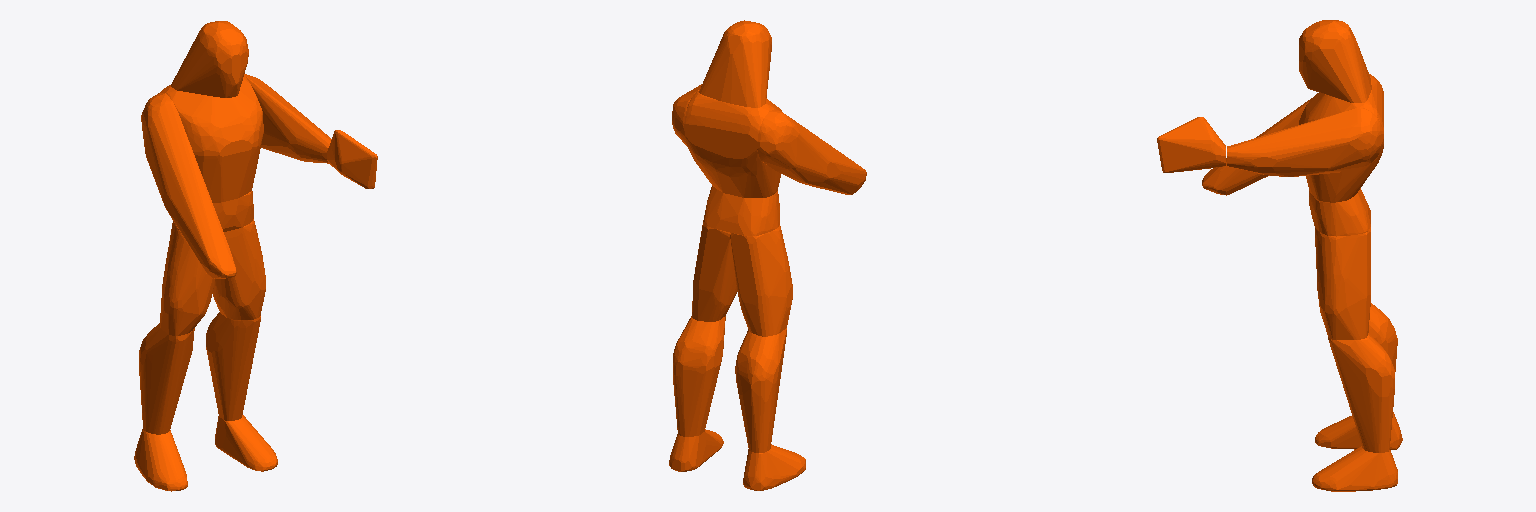
The robot description file, URDF, robot "Spidermanfigure":
<?xml version="1.0" ?>
<robot name="Spidermanfigure">
   <material name="obj_color">
      <color rgba="1.0 0.423529411765 0.0392156862745 1.0"/>
   </material>
   <link name="top">
      <inertial>
         <origin rpy="0.000163856593778482 0.001043379577701048 0.001063725046552779" xyz="-0.0006490033952777135 0.02436028342442219 0.01462514076569086"/>
         <mass value="0.3458592813953777"/>
         <inertia ixx="0.001044266310135867" ixy="7.737598515259345e-06" ixz="-2.052621338620703e-05" iyy="0.00104876519937387" iyz="0.0001094964801741957" izz="0.0001779297085225713"/>
      </inertial>
      <visual>
         <origin rpy="0 0 0" xyz="0 0 0"/>
         <geometry>
            <mesh filename="top_watertight_tiny.obj" scale="1 1 1"/>
         </geometry>
         <material name="obj_color"/>
      </visual>
      <collision>
         <origin rpy="0 0 0" xyz="0 0 0"/>
         <geometry>
            <mesh filename="top_watertight_tiny.obj" scale="1 1 1"/>
         </geometry>
      </collision>
   </link>
</robot>

--- What the picture shows (computed from the rendered views, not written in the file) ---
3 views of the same robot in one strip: view 1: azimuth 30°, elevation 25°; view 2: azimuth 150°, elevation 25°; view 3: azimuth 270°, elevation 25° (orthographic).
Robot: Spidermanfigure — 1 links, 0 joints (none); root link top; default pose: all joints at 0.
Links seen in each view (by area): view 1: top; view 2: top; view 3: top.
Link boxes in pixels (x1,y1,x2,y2): top: (134,21,377,491); top: (669,20,866,490); top: (1157,20,1402,491).
Size in the robot's own frame: 0.0684 by 0.1049 by 0.2094 metres.
Meshes: 1 distinct files referenced, 1 mesh visuals loaded (1 OBJ).